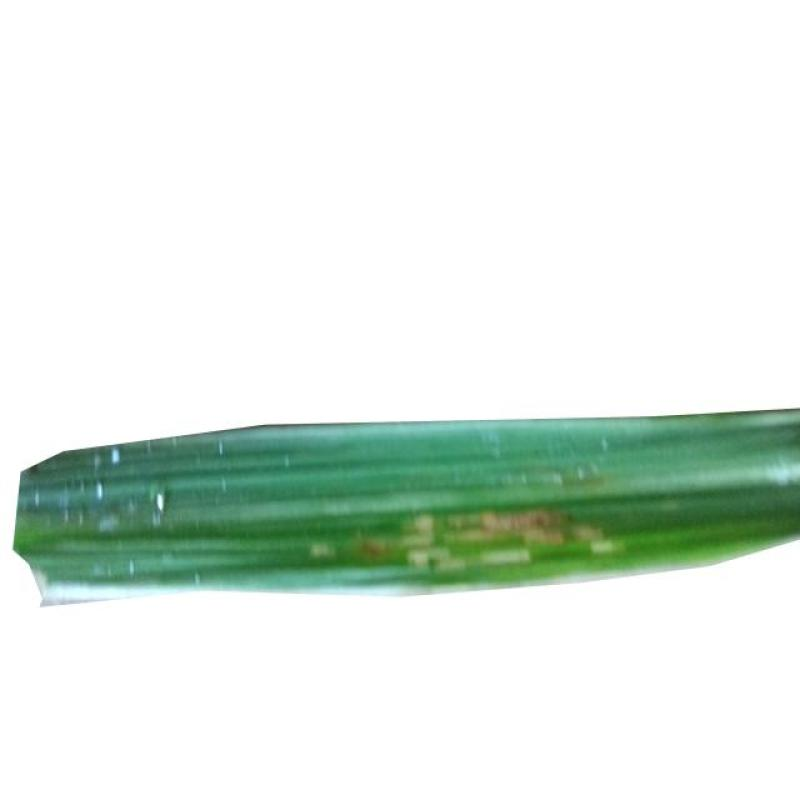Bacterial_Leaf_Blight: (476, 496, 586, 552), (360, 516, 392, 572)
